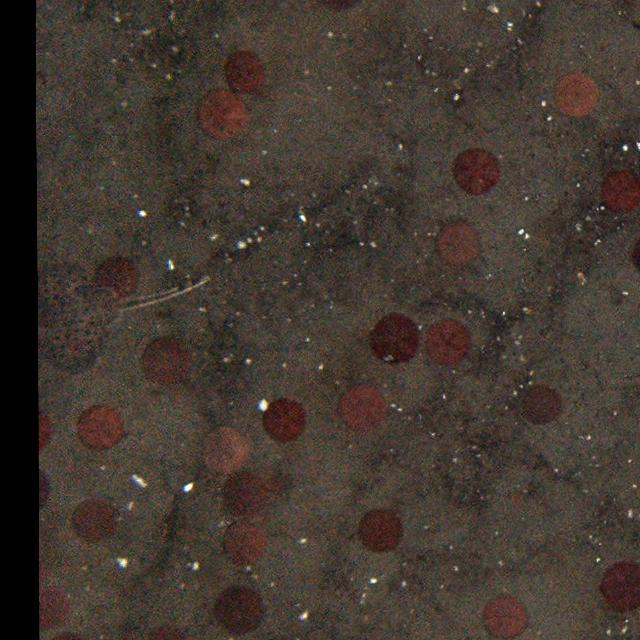skate: (40, 258, 212, 374)
